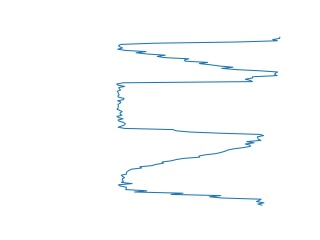distributaryChannelFill: (111, 73, 265, 144)
mouthBar: (116, 34, 282, 77)
underwaterDistributaryChannel: (115, 141, 266, 209)
